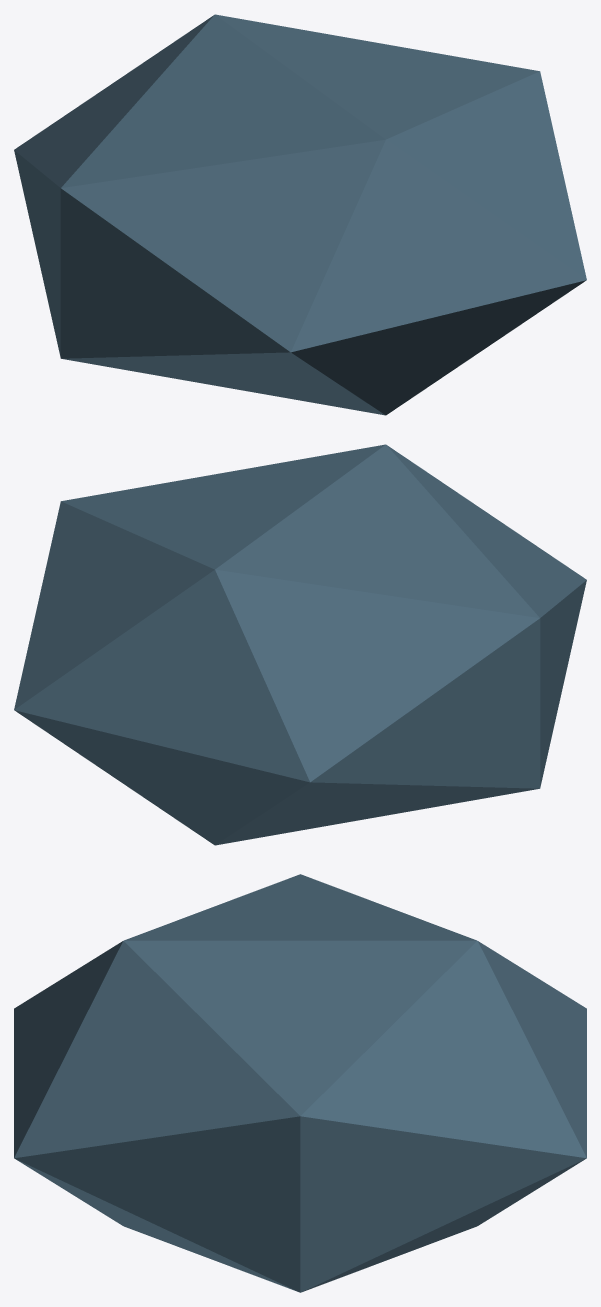
Rendered from leafPin_accessory.glb.
3 views of the same model, one above another, from view 1: azimuth 30°, elevation 25°; view 2: azimuth 150°, elevation 25°; view 3: azimuth 270°, elevation 25° (orthographic). The views are drawn at different scales.
Parts seen in each view (by area): view 1: appearance_accessory; view 2: appearance_accessory; view 3: appearance_accessory.
Part boxes in pixels (x1,y1,x2,y2): appearance_accessory: (14,14,586,415); appearance_accessory: (14,444,586,845); appearance_accessory: (14,874,586,1292).
Size of the model in its own units: 0.1786 by 0.0983 by 0.1786.
